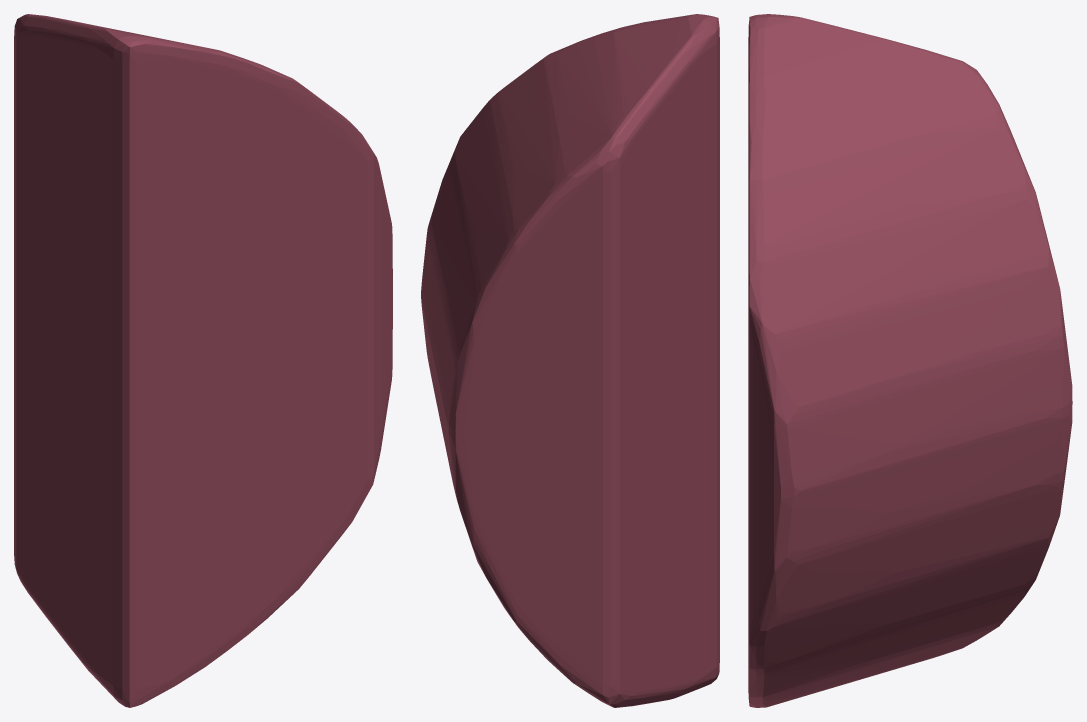
The model's file is left_lf_metacarpal_part_13.obj.
3 views of the same model, side by side, from view 1: azimuth 30°, elevation 25°; view 2: azimuth 150°, elevation 25°; view 3: azimuth 270°, elevation 25° (orthographic). The views are drawn at different scales.
Size of the model in its own units: 9.56 by 21.27 by 9.19.
